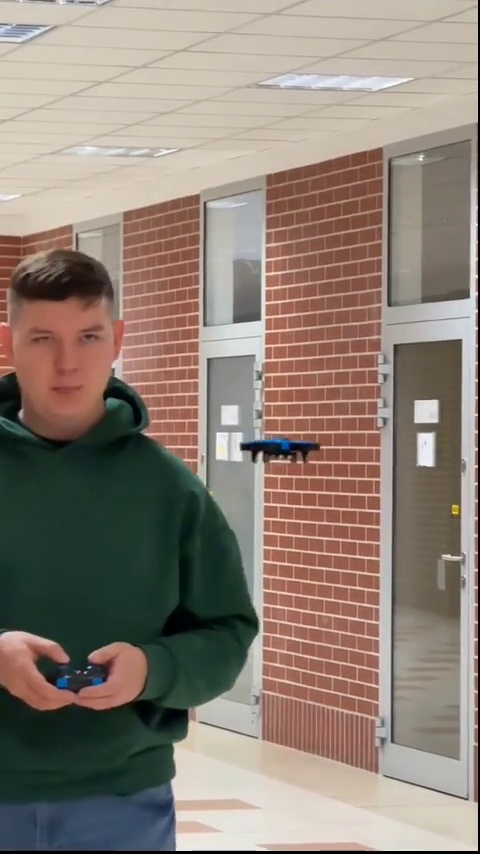drone: (241, 440, 318, 467)
no vest: (0, 251, 261, 848)
